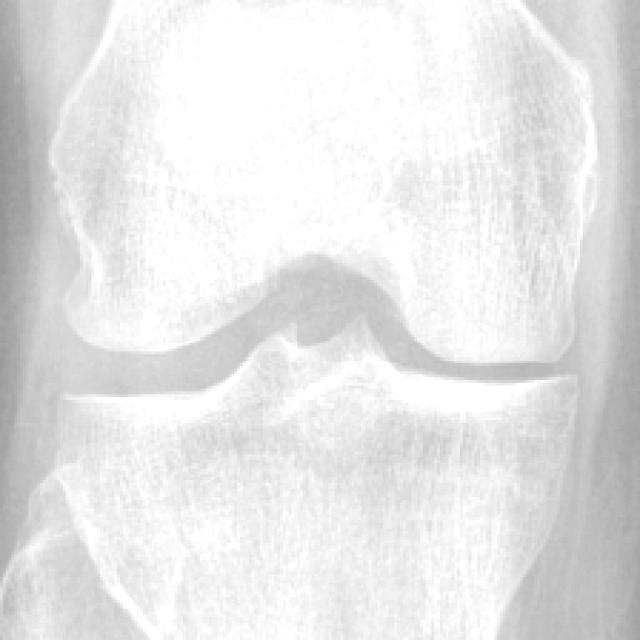femur: (47, 0, 601, 366)
tibia: (55, 323, 577, 640)
